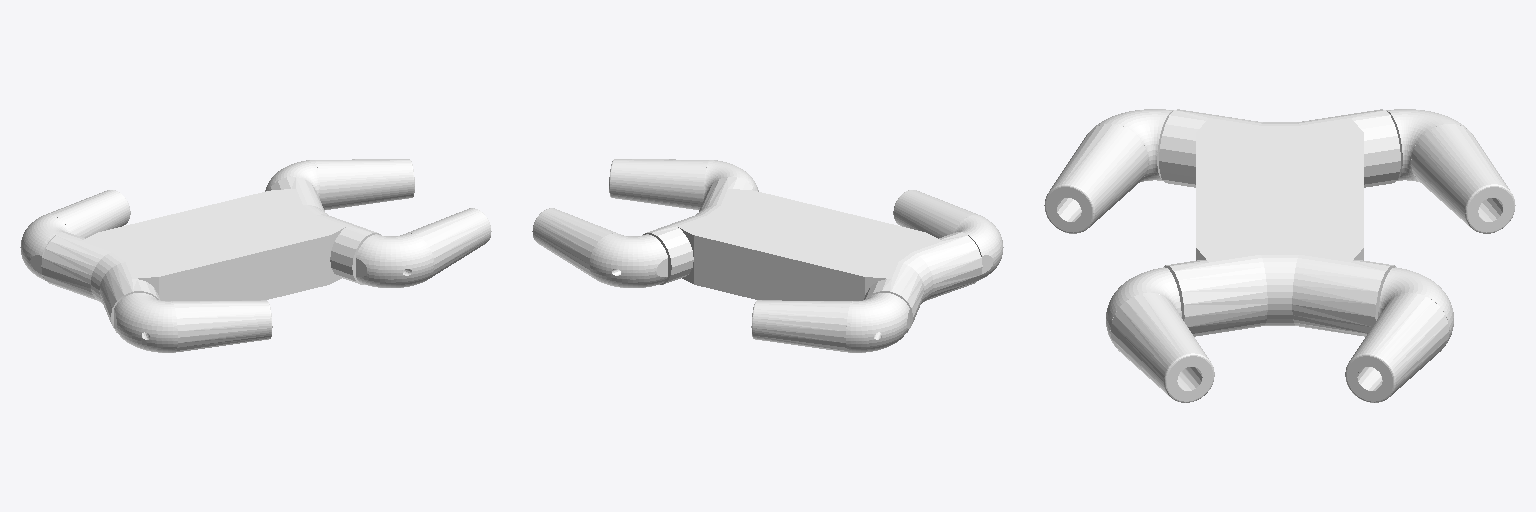
robot.urdf — 20_degree:
<?xml version="1.0" encoding="utf-8"?>
<!-- This URDF was automatically created by SolidWorks to URDF Exporter! Originally created by [author] ([email redacted]) 
     Commit Version: 1.5.1-0-g916b5db  Build Version: 1.5.7152.31018
     For more information, please see http://wiki.ros.org/sw_urdf_exporter -->
<robot
  name="20_degree">
  <link
    name="base_link">
    <inertial>
      <origin
        xyz="1.3878E-17 6.3307E-08 2.0817E-17"
        rpy="0 0 0" />
      <mass
        value="2.942" />
      <inertia
        ixx="0.0103984"
        ixy="4.2683E-19"
        ixz="-9.9849E-11"
        iyy="0.0448867"
        iyz="3.2295E-19"
        izz="0.0526521" />
    </inertial>
    <visual>
      <origin
        xyz="0 0 0"
        rpy="0 0 0" />
      <geometry>
        <mesh
          filename="package://20_degree/meshes/base_link.STL" />
      </geometry>
      <material
        name="">
        <color
          rgba="1 1 1 1" />
      </material>
    </visual>
    <collision>
      <origin
        xyz="0 0 0"
        rpy="0 0 0" />
      <geometry>
        <mesh
          filename="package://20_degree/meshes/base_link.STL" />
      </geometry>
    </collision>
  </link>
  <link
    name="left_front_link">
    <inertial>
      <origin
        xyz="-9.7736E-08 0.056833 -0.03601"
        rpy="0 0 0" />
      <mass
        value="0.095" />
      <inertia
        ixx="0.0002672"
        ixy="7.0572E-10"
        ixz="7.1607E-10"
        iyy="0.0000540"
        iyz="2.33E-05"
        izz="0.0002642" />
    </inertial>
    <visual>
      <origin
        xyz="0 0 0"
        rpy="0 0 0" />
      <geometry>
        <mesh
          filename="package://20_degree/meshes/left_front_link.STL" />
      </geometry>
      <material
        name="">
        <color
          rgba="1 1 1 1" />
      </material>
    </visual>
    <collision>
      <origin
        xyz="0 0 0"
        rpy="0 0 0" />
      <geometry>
        <mesh
          filename="package://20_degree/meshes/left_front_link.STL" />
      </geometry>
    </collision>
  </link>
  <joint
    name="left_front_leg"
    type="continuous">
    <origin
      xyz="0.16523 0.096788 0"
      rpy="1.9199 1.5708 0" />
    <parent
      link="base_link" />
    <child
      link="left_front_link" />
    <axis
      xyz="0 0 -1" />
    <limit
      effort="5"
      velocity="487" />
  </joint>
  <link
    name="right_front_link">
    <inertial>
      <origin
        xyz="9.7736E-08 0.056833 0.03601"
        rpy="0 0 0" />
      <mass
        value="0.095" />
      <inertia
        ixx="0.0002672"
        ixy="-7.0572E-10"
        ixz="7.1607E-10"
        iyy="0.0000540"
        iyz="-2.33E-05"
        izz="0.0002642" />
    </inertial>
    <visual>
      <origin
        xyz="0 0 0"
        rpy="0 0 0" />
      <geometry>
        <mesh
          filename="package://20_degree/meshes/right_front_link.STL" />
      </geometry>
      <material
        name="">
        <color
          rgba="1 1 1 1" />
      </material>
    </visual>
    <collision>
      <origin
        xyz="0 0 0"
        rpy="0 0 0" />
      <geometry>
        <mesh
          filename="package://20_degree/meshes/right_front_link.STL" />
      </geometry>
    </collision>
  </link>
  <joint
    name="right_front_leg"
    type="continuous">
    <origin
      xyz="0.16523 -0.096788 0"
      rpy="1.2217 1.5708 0" />
    <parent
      link="base_link" />
    <child
      link="right_front_link" />
    <axis
      xyz="0 0 1" />
    <limit
      effort="5"
      velocity="487" />
  </joint>
  <link
    name="right_back_link">
    <inertial>
      <origin
        xyz="8.636E-08 0.056834 0.03601"
        rpy="0 0 0" />
      <mass
        value="0.095" />
      <inertia
        ixx="0.0002672"
        ixy="-4.9087E-10"
        ixz="5.9399E-10"
        iyy="0.0000540"
        iyz="-2.33E-05"
        izz="0.0002642" />
    </inertial>
    <visual>
      <origin
        xyz="0 0 0"
        rpy="0 0 0" />
      <geometry>
        <mesh
          filename="package://20_degree/meshes/right_back_link.STL" />
      </geometry>
      <material
        name="">
        <color
          rgba="1 1 1 1" />
      </material>
    </visual>
    <collision>
      <origin
        xyz="0 0 0"
        rpy="0 0 0" />
      <geometry>
        <mesh
          filename="package://20_degree/meshes/right_back_link.STL" />
      </geometry>
    </collision>
  </link>
  <joint
    name="right_back_leg"
    type="continuous">
    <origin
      xyz="-0.16523 -0.096788 0"
      rpy="1.9199 1.5708 0" />
    <parent
      link="base_link" />
    <child
      link="right_back_link" />
    <axis
      xyz="0 0 1" />
    <limit
      effort="5"
      velocity="487" />
  </joint>
  <link
    name="left_back_link">
    <inertial>
      <origin
        xyz="-8.636E-08 0.056834 -0.03601"
        rpy="0 0 0" />
      <mass
        value="0.095" />
      <inertia
        ixx="0.0002672"
        ixy="4.9087E-10"
        ixz="5.9399E-10"
        iyy="0.0000540"
        iyz="2.33E-05"
        izz="0.0002642" />
    </inertial>
    <visual>
      <origin
        xyz="0 0 0"
        rpy="0 0 0" />
      <geometry>
        <mesh
          filename="package://20_degree/meshes/left_back_link.STL" />
      </geometry>
      <material
        name="">
        <color
          rgba="1 1 1 1" />
      </material>
    </visual>
    <collision>
      <origin
        xyz="0 0 0"
        rpy="0 0 0" />
      <geometry>
        <mesh
          filename="package://20_degree/meshes/left_back_link.STL" />
      </geometry>
    </collision>
  </link>
  <joint
    name="left_back_leg"
    type="continuous">
    <origin
      xyz="-0.16523 0.096788 0"
      rpy="1.2217 1.5708 0" />
    <parent
      link="base_link" />
    <child
      link="left_back_link" />
    <axis
      xyz="0 0 -1" />
    <limit
      effort="5"
      velocity="487" />
  </joint>
</robot>

--- Facts derived from the render (not from the file) ---
Views: 3 orthographic renders of the robot side by side, from view 1: azimuth 30°, elevation 25°; view 2: azimuth 150°, elevation 25°; view 3: azimuth 270°, elevation 25°.
Robot: 20_degree — 5 links, 4 joints (4 continuous); root link base_link; default pose: all joints at 0.
Links seen in each view (by area): view 1: base_link, right_back_link, right_front_link, left_front_link, left_back_link; view 2: base_link, left_back_link, left_front_link, right_front_link, right_back_link; view 3: base_link, right_back_link, left_back_link, left_front_link, right_front_link.
Boxes of the visible links, x1=… form: base_link: x1=41, y1=177, x2=380, y2=332; right_back_link: x1=114, y1=293, x2=272, y2=352; right_front_link: x1=356, y1=208, x2=491, y2=287; left_front_link: x1=265, y1=159, x2=414, y2=209; left_back_link: x1=20, y1=190, x2=130, y2=279; base_link: x1=643, y1=177, x2=982, y2=332; left_back_link: x1=751, y1=293, x2=909, y2=352; left_front_link: x1=532, y1=208, x2=667, y2=287; right_front_link: x1=609, y1=159, x2=758, y2=209; right_back_link: x1=893, y1=190, x2=1003, y2=279; base_link: x1=1159, y1=109, x2=1400, y2=336; right_back_link: x1=1044, y1=109, x2=1173, y2=233; left_back_link: x1=1386, y1=109, x2=1515, y2=233; left_front_link: x1=1345, y1=267, x2=1453, y2=402; right_front_link: x1=1106, y1=267, x2=1214, y2=402.
Size in the robot's own frame: 0.5354 by 0.4214 by 0.0672 metres.
5 mesh visuals loaded from 5 distinct referenced files (5 binary STL).